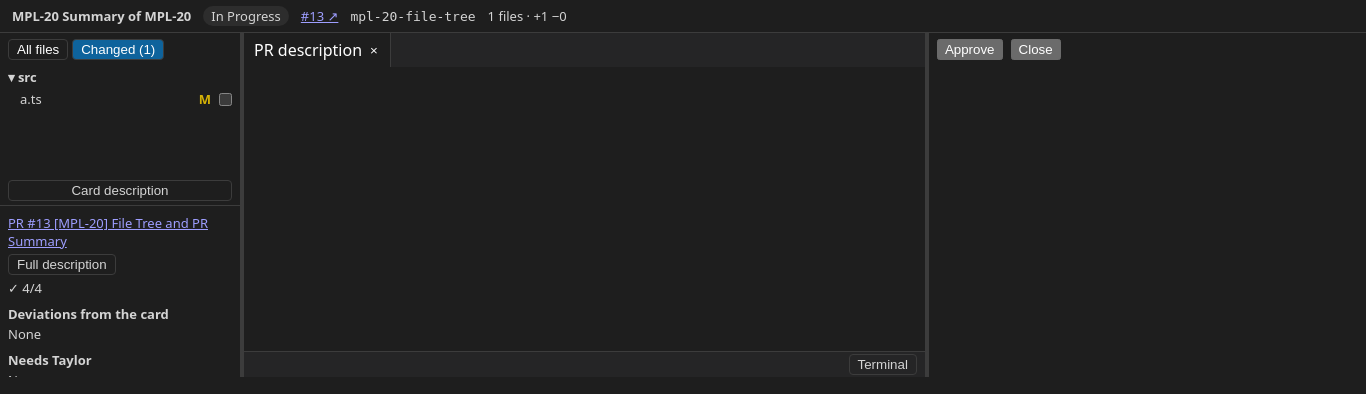
Test case: CardTab › Card description opens the card description
Check: the tab "PR description ×" is shown, box x1=244 y1=33 x2=391 y2=67
Click the button "Card description" at (120, 191), box x1=8 y1=180 x2=232 y2=201
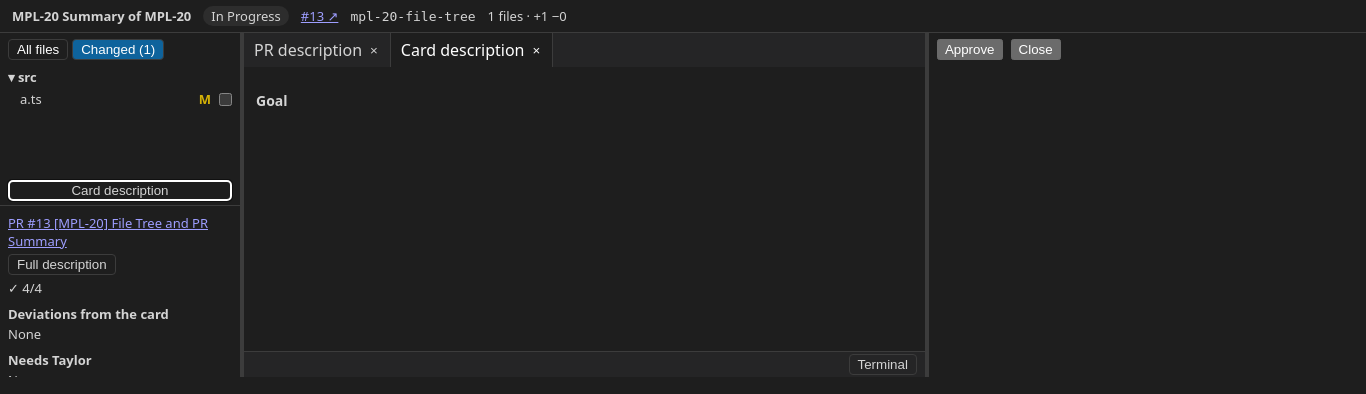
Check: the tab "Card description ×" is shown, box x1=391 y1=33 x2=553 y2=67
Click the button named "Close Card description" at (536, 50), box x1=530 y1=42 x2=542 y2=58
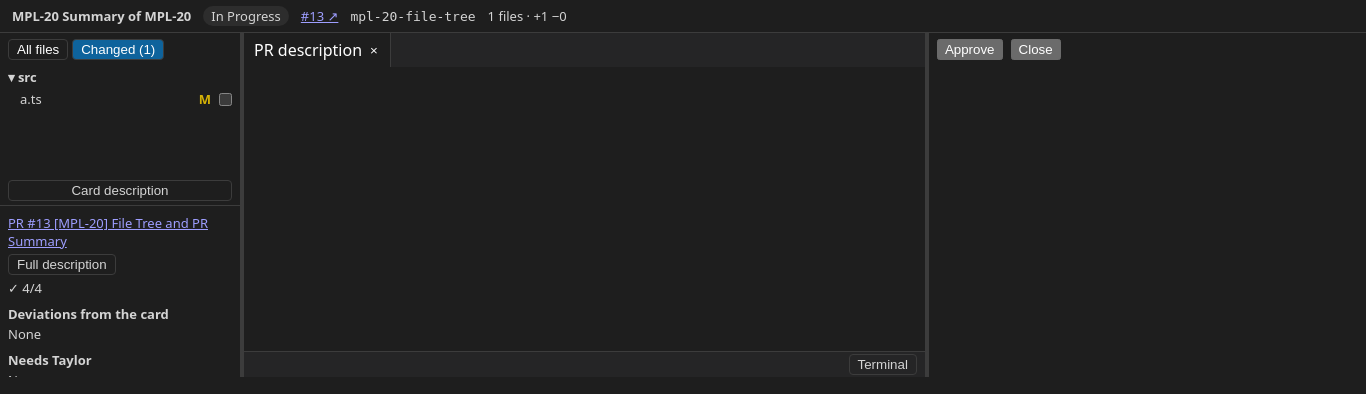
Click the button "Card description" at (120, 191), box x1=8 y1=180 x2=232 y2=201
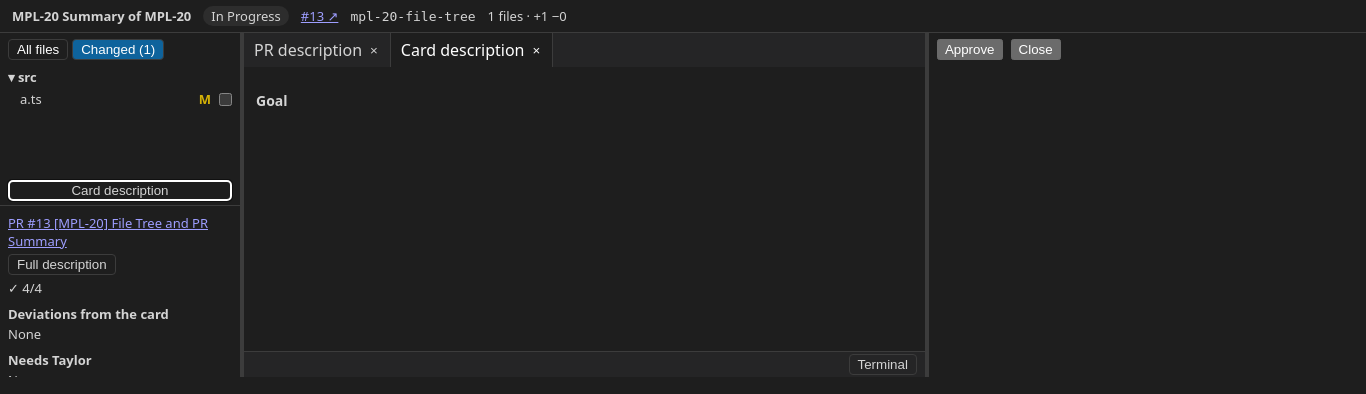
Check: the tab "Card description ×" is shown, box x1=391 y1=33 x2=553 y2=67
